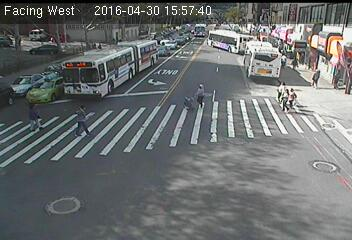neg: (318, 118, 337, 144), (289, 109, 308, 134), (178, 88, 195, 110), (123, 67, 139, 88), (149, 129, 161, 146), (305, 107, 315, 121)
pos: (24, 103, 47, 134), (71, 104, 94, 134), (192, 83, 210, 106), (312, 69, 327, 88)
